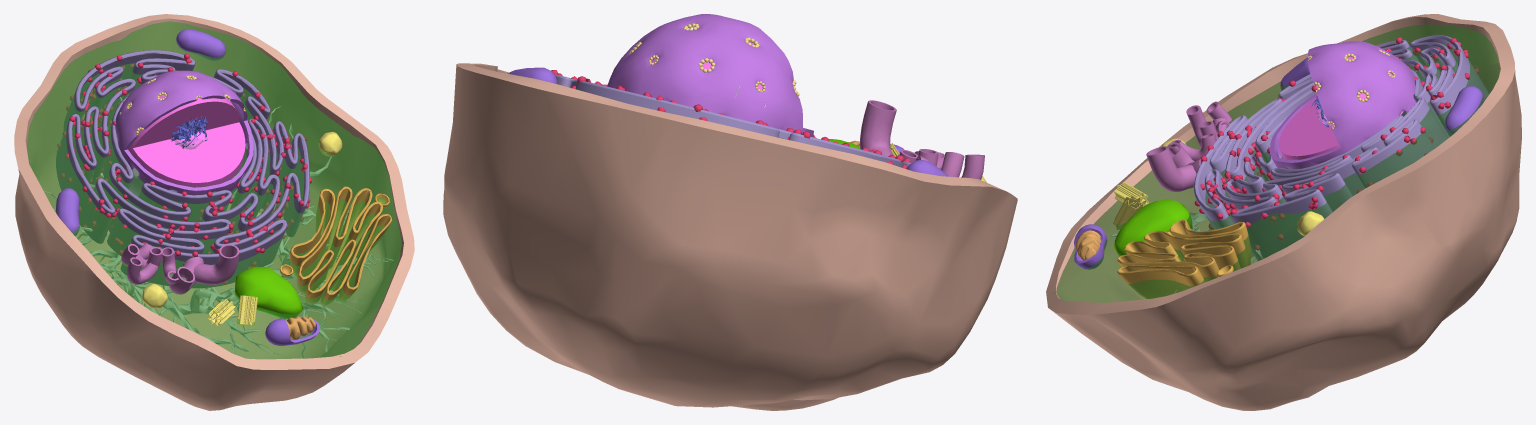
The model's file is modelo.glb.
3 renders of one model, left to right at view 1: azimuth 30°, elevation 25°; view 2: azimuth 150°, elevation 25°; view 3: azimuth 270°, elevation 25°, orthographic. The views are drawn at different scales.
Parts seen in each view (by area): view 1: Nulo__Material_0, citoplasma_remesh_Material.004_0, Nulo__Material.005_0, Nulo__Material.006_0, Nulo__Material.010_0, Nulo__Material.001_0, Nulo__Material.013_0, Nulo__Material.018_0, Nulo__Material.026_0, Nulo__Material.008_0, Nulo__Material.1_0, Nulo__Material.025_0 (+2 smaller); view 2: Nulo__Material_0, Nulo__Material.001_0, Nulo__Material.005_0, Nulo__Material.026_0, Nulo__Material.008_0, Nulo__Material.018_0, Nulo__Material.003_0; view 3: Nulo__Material_0, Nulo__Material.005_0, citoplasma_remesh_Material.004_0, Nulo__Material.001_0, Nulo__Material.006_0, Nulo__Material.026_0, Nulo__Material.018_0, Nulo__Material.010_0, Nulo__Material.008_0, Nulo__Material.1_0, Nulo__Material.025_0, Nulo__Material.007_0.
Part boxes in pixels (x1,y1,x2,y2): Nulo__Material_0: (14, 14, 414, 410); citoplasma_remesh_Material.004_0: (27, 21, 401, 359); Nulo__Material.005_0: (56, 50, 309, 287); Nulo__Material.006_0: (279, 186, 392, 305); Nulo__Material.010_0: (128, 94, 245, 187); Nulo__Material.001_0: (115, 70, 253, 196); Nulo__Material.013_0: (44, 94, 393, 358); Nulo__Material.018_0: (57, 53, 312, 284); Nulo__Material.026_0: (121, 244, 239, 294); Nulo__Material.008_0: (56, 29, 320, 345); Nulo__Material.1_0: (235, 266, 303, 318); Nulo__Material.025_0: (142, 132, 342, 326); Nulo__Material_0: (443, 63, 1017, 410); Nulo__Material.001_0: (607, 14, 813, 137); Nulo__Material.005_0: (555, 74, 911, 167); Nulo__Material.026_0: (860, 100, 984, 179); Nulo__Material.008_0: (508, 67, 948, 176); Nulo__Material.018_0: (551, 70, 910, 168); Nulo__Material.003_0: (629, 23, 799, 96); Nulo__Material_0: (1046, 14, 1521, 410); Nulo__Material.005_0: (1193, 35, 1488, 260); citoplasma_remesh_Material.004_0: (1054, 24, 1500, 302); Nulo__Material.001_0: (1270, 41, 1415, 169); Nulo__Material.006_0: (1117, 220, 1250, 298); Nulo__Material.026_0: (1146, 101, 1232, 191); Nulo__Material.018_0: (1194, 37, 1486, 250); Nulo__Material.010_0: (1278, 56, 1403, 159); Nulo__Material.008_0: (1074, 57, 1483, 269); Nulo__Material.1_0: (1114, 199, 1192, 255); Nulo__Material.025_0: (1113, 138, 1324, 235); Nulo__Material.007_0: (1075, 230, 1101, 260).
Size of the model in its own units: 596 by 477 by 626.
